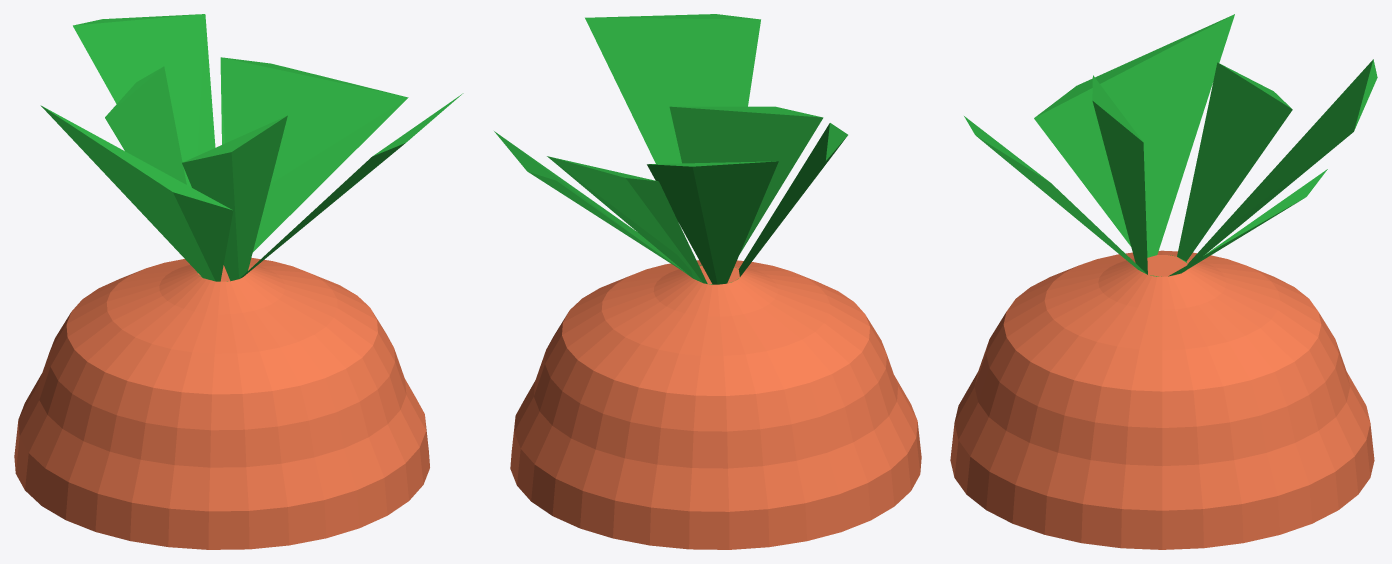
Rendered from Carrot.fbx.
3 renders of one model, left to right at view 1: azimuth 30°, elevation 25°; view 2: azimuth 150°, elevation 25°; view 3: azimuth 270°, elevation 25°, orthographic. The views are drawn at different scales.
Visible parts, largest first — view 1: Carrot; view 2: Carrot; view 3: Carrot.
Boxes of the visible parts, x1=… form: Carrot: x1=14, y1=14, x2=463, y2=549; Carrot: x1=494, y1=14, x2=921, y2=549; Carrot: x1=950, y1=14, x2=1377, y2=549.
Bounding box in the file's own units: 214 × 197 × 201.
